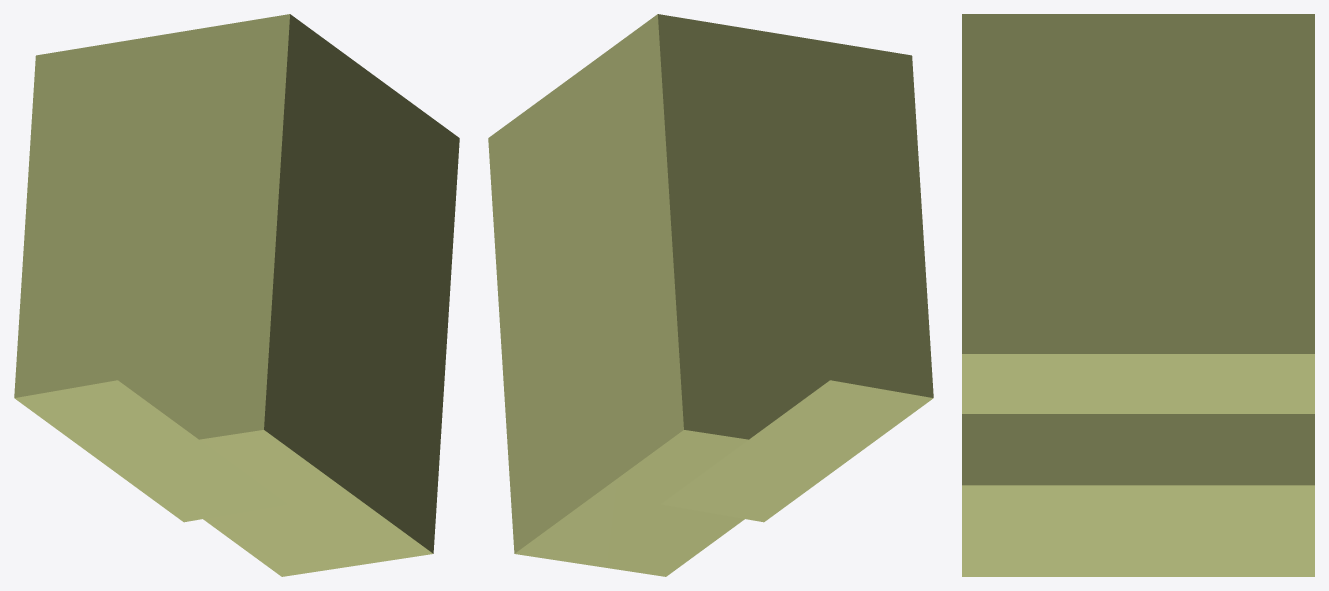
3 renders of one model, left to right at view 1: azimuth 30°, elevation 25°; view 2: azimuth 150°, elevation 25°; view 3: azimuth 270°, elevation 25°, orthographic. The views are drawn at different scales.
Visible parts, largest first — view 1: 0_1_2_0_1_3_0_3_1_2_0; view 2: 0_1_2_0_1_3_0_3_1_2_0; view 3: 0_1_2_0_1_3_0_3_1_2_0.
Boxes of the visible parts, x1,y1,x2,y2 form: 0_1_2_0_1_3_0_3_1_2_0: (14, 14, 459, 576); 0_1_2_0_1_3_0_3_1_2_0: (488, 14, 933, 576); 0_1_2_0_1_3_0_3_1_2_0: (962, 14, 1314, 576).
Bounding box in the file's own units: 5.64 × 8.39 × 6.
